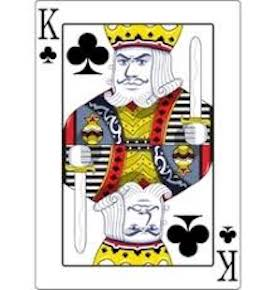KingOfClubs: (32, 1, 242, 290)
